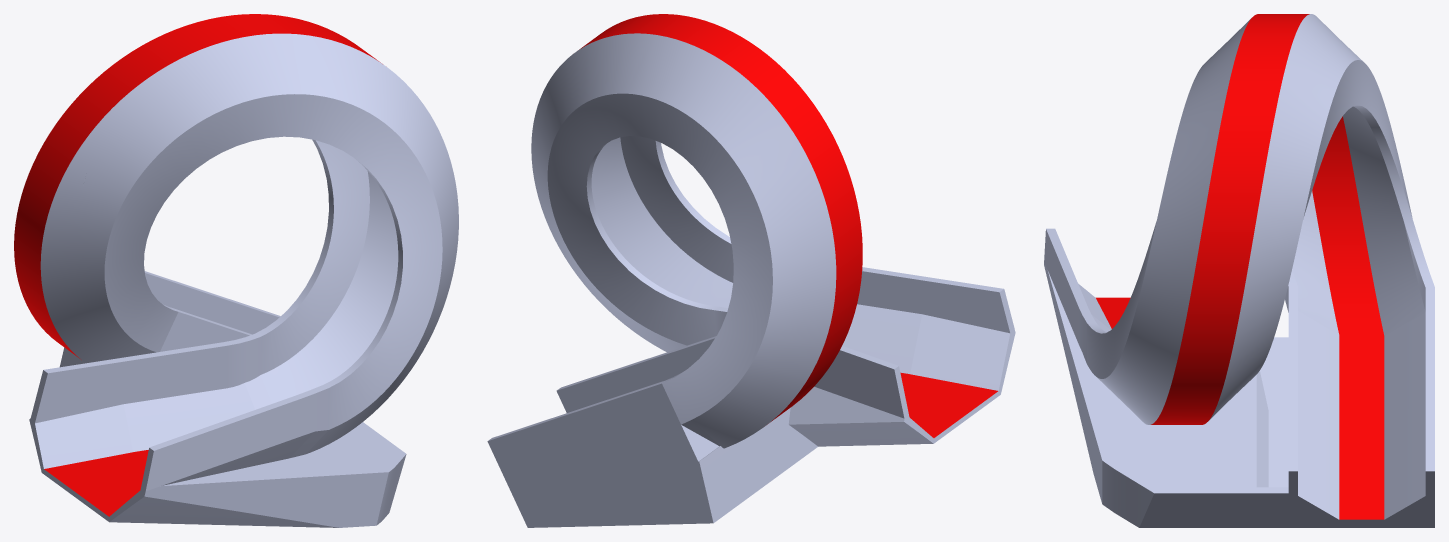
File: Loop da Loop.fbx
3 renders of one model, left to right at view 1: azimuth 30°, elevation 25°; view 2: azimuth 150°, elevation 25°; view 3: azimuth 270°, elevation 25°, orthographic.
Parts seen in each view (by area): view 1: Loop_da_loop_ramp; view 2: Loop_da_loop_ramp; view 3: Loop_da_loop_ramp.
Part boxes in pixels (box(x1,y1,x2,y2)): Loop_da_loop_ramp: box(14, 14, 458, 527); Loop_da_loop_ramp: box(487, 14, 1015, 527); Loop_da_loop_ramp: box(1044, 14, 1434, 527).
Bounding box in the file's own units: 12.57 × 13.9 × 10.86.
